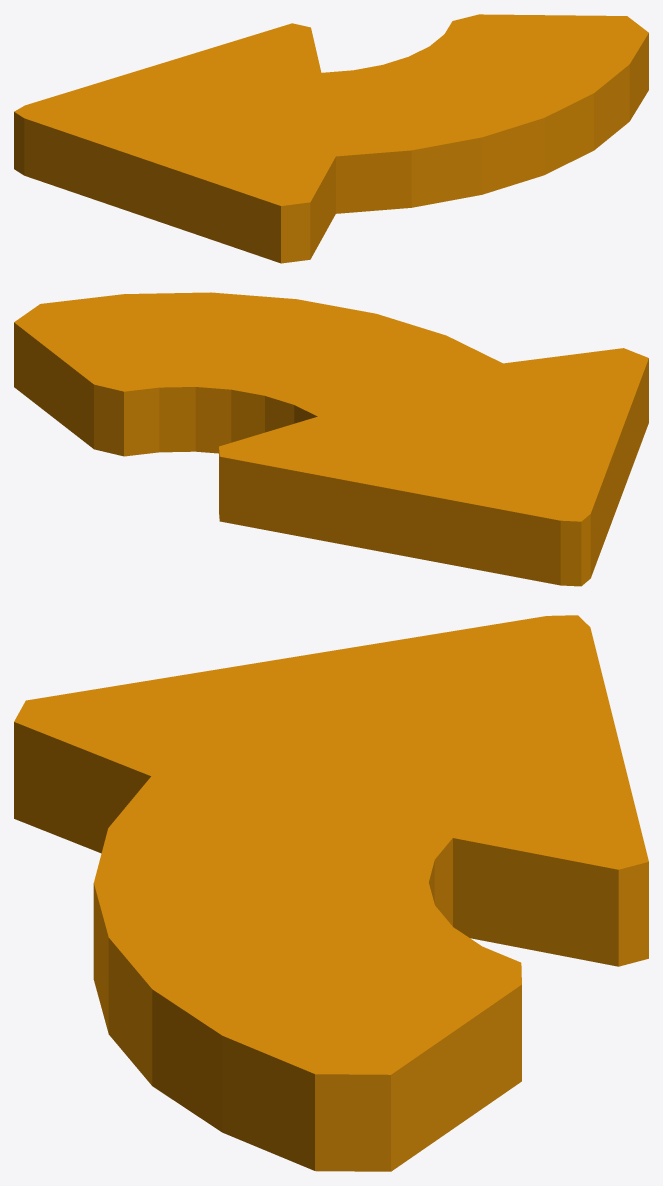
Rendered from arrow_rotation.glb.
3 views of the same model, one above another, from view 1: azimuth 30°, elevation 25°; view 2: azimuth 150°, elevation 25°; view 3: azimuth 270°, elevation 25° (orthographic). The views are drawn at different scales.
Parts seen in each view (by area): view 1: 平面.001; view 2: 平面.001; view 3: 平面.001.
Boxes of the visible parts, x1,y1,x2,y2 form: 平面.001: [14, 14, 648, 263]; 平面.001: [14, 292, 648, 586]; 平面.001: [14, 615, 648, 1171].
Bounding box in the file's own units: 5.08 × 0.5 × 2.97.
